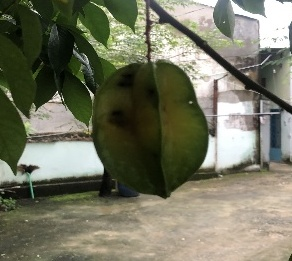Khe: (88, 58, 212, 202)
